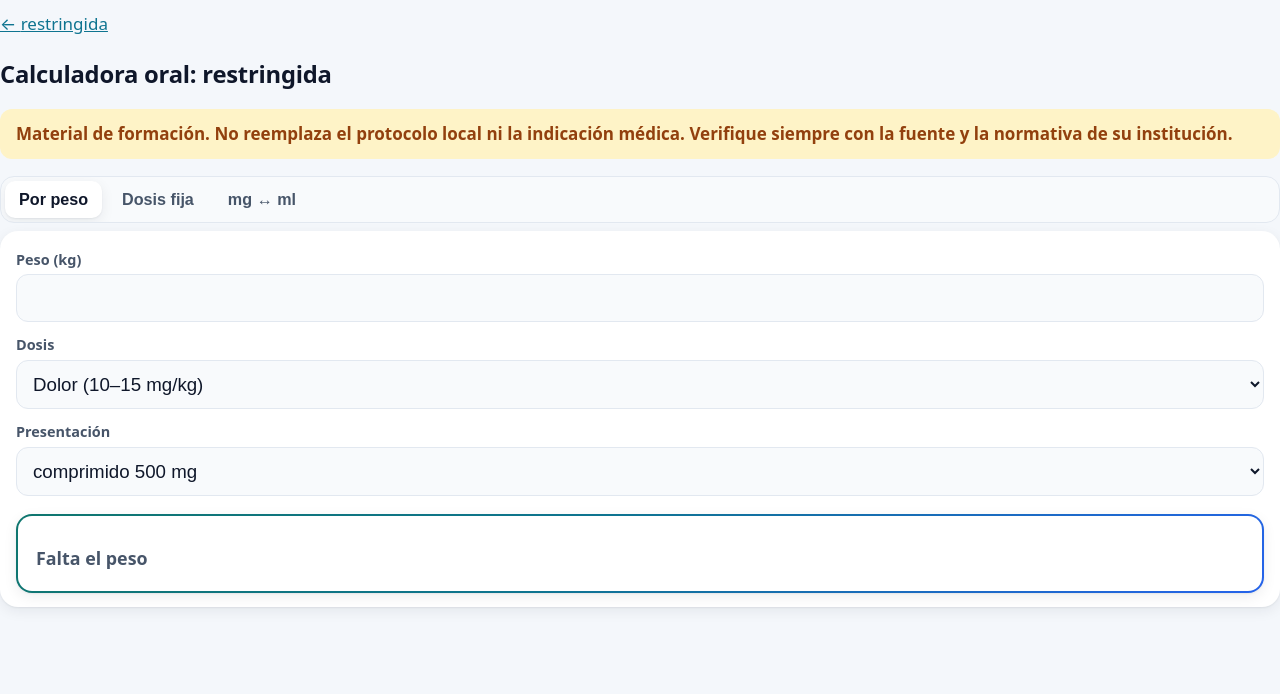
Test case: CalculadoraOral › dosis restringida a una presentación: solo ofrece esa presentación
Click the tab "Dosis fija". click: (158, 199)
box: [108,181,208,218]
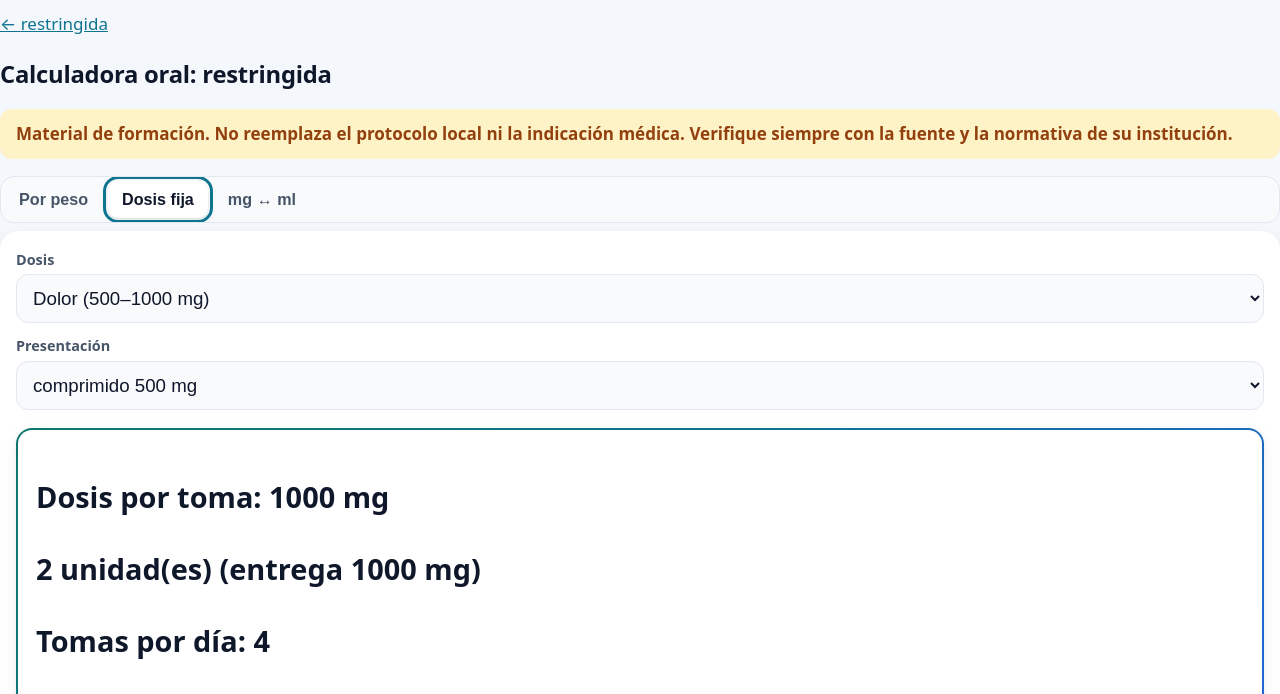
Select "Solo jarabe (500–300 mg)" in the dropdown labelled "Dosis". click: (640, 299)
box: [16,274,1264,323]
(page scrolled)
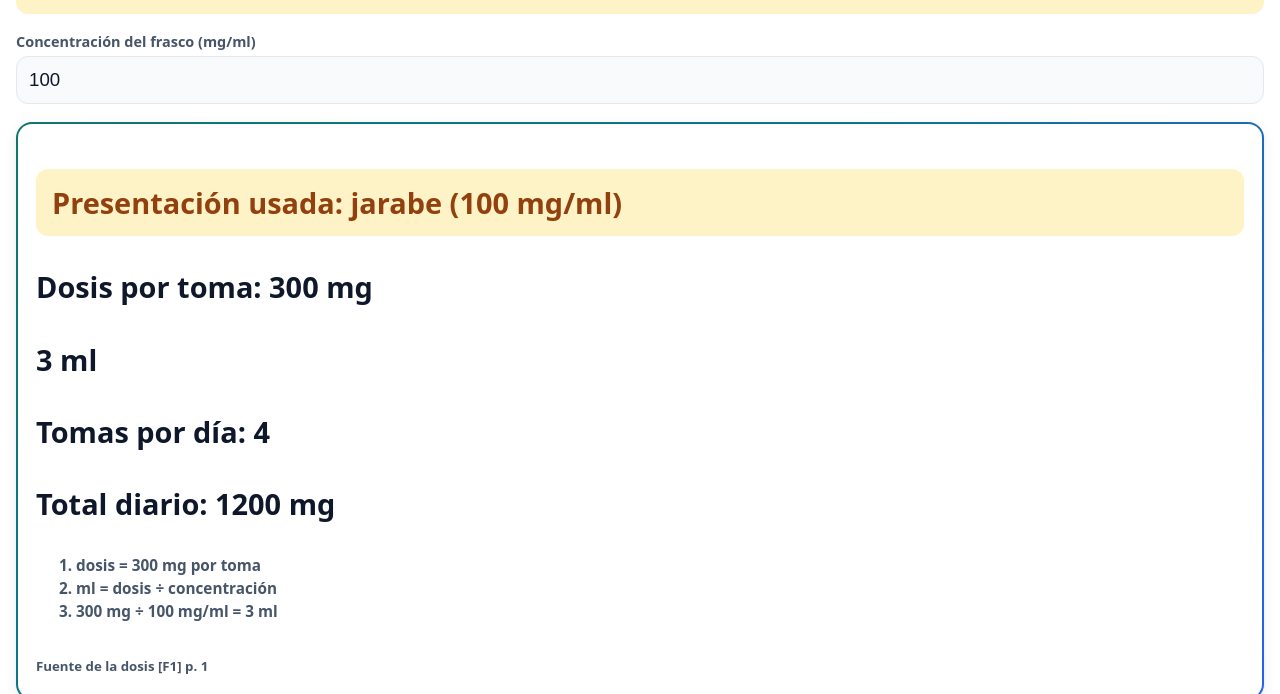
Result: the element with test id "resultado" shows "3 ml" at [76,601,278,621]
